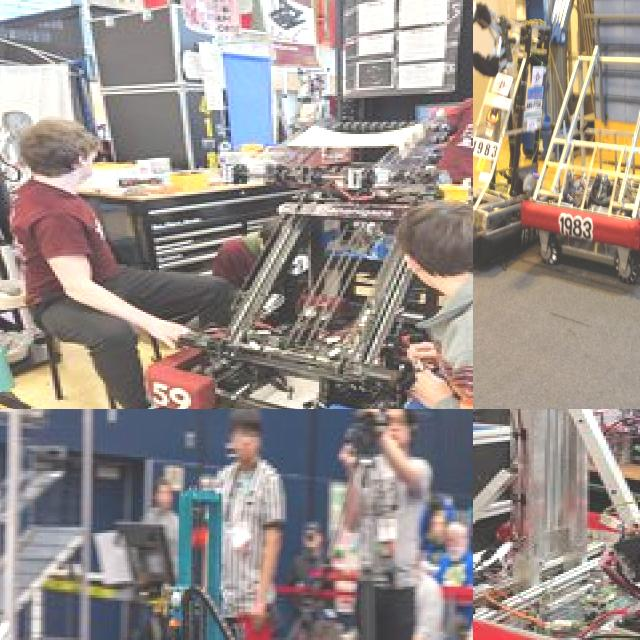FRC-Robots: (91, 0, 473, 409), (67, 479, 406, 640), (473, 409, 640, 640), (473, 0, 584, 267), (518, 40, 640, 282), (0, 174, 60, 409)
